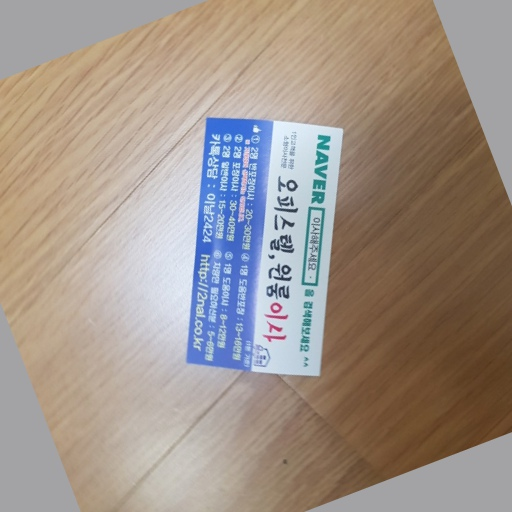Paper_2: (188, 109, 342, 382)
